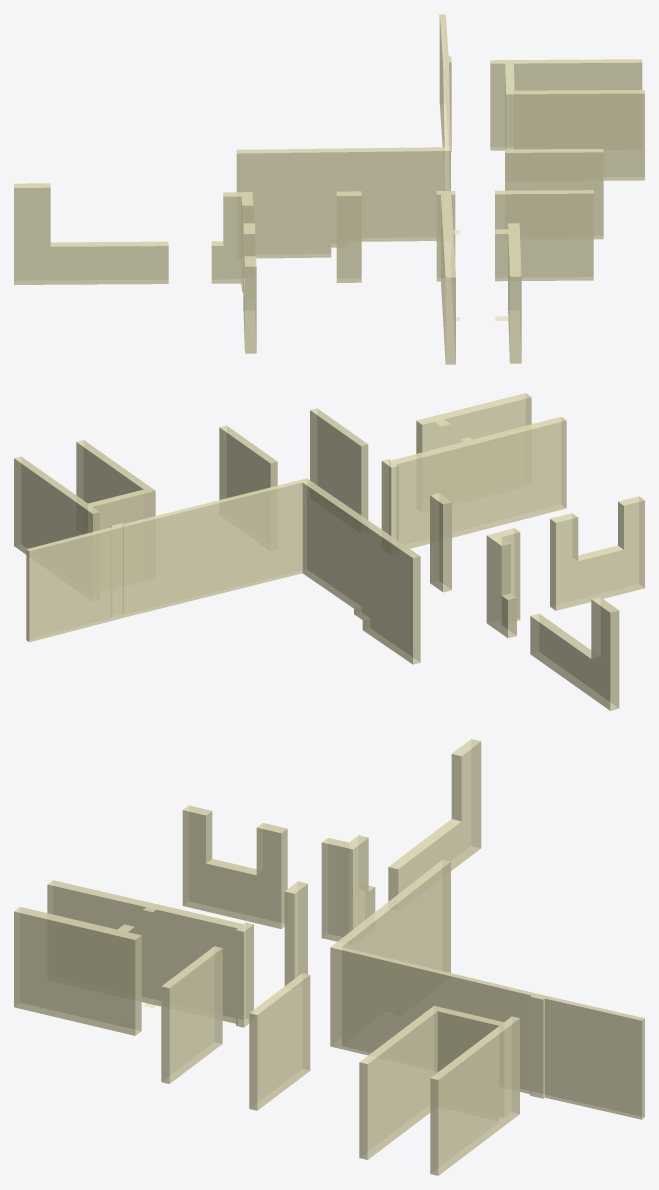
The model's file is Occlusion_Mesh.glb.
The picture shows the model from 3 angles, top to bottom: view 1: azimuth 30°, elevation 25°; view 2: azimuth 150°, elevation 25°; view 3: azimuth 270°, elevation 25°; orthographic projection. The views are drawn at different scales.
Visible parts, largest first — view 1: Occlusion_Mesh; view 2: Occlusion_Mesh; view 3: Occlusion_Mesh.
Part boxes in pixels (<box>): Occlusion_Mesh: <box>14,14,644,364</box>; Occlusion_Mesh: <box>14,393,644,710</box>; Occlusion_Mesh: <box>14,739,644,1175</box>.
Size of the model in its own units: 14.77 by 2.58 by 11.93.
